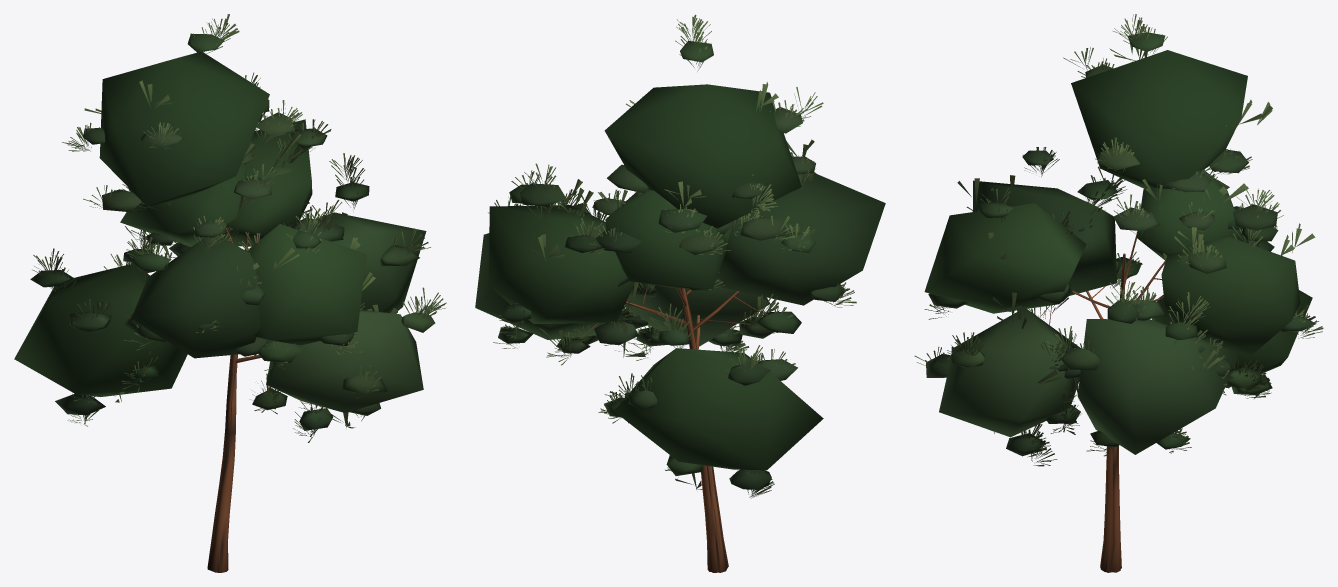
The model's file is stone-pine.glb.
3 views of the same model, side by side, from view 1: azimuth 30°, elevation 25°; view 2: azimuth 150°, elevation 25°; view 3: azimuth 270°, elevation 25° (orthographic). The views are drawn at different scales.
Visible parts, largest first — view 1: stone-pine-lo, stone-pine; view 2: stone-pine-lo, stone-pine; view 3: stone-pine-lo, stone-pine.
Boxes of the visible parts, bbox=[...] form: stone-pine-lo: bbox=[14, 52, 426, 572]; stone-pine: bbox=[30, 14, 446, 572]; stone-pine-lo: bbox=[475, 82, 885, 572]; stone-pine: bbox=[488, 14, 856, 572]; stone-pine-lo: bbox=[924, 41, 1315, 572]; stone-pine: bbox=[914, 14, 1323, 572].
Size of the model in its own units: 17.72 by 26.78 by 17.73.
